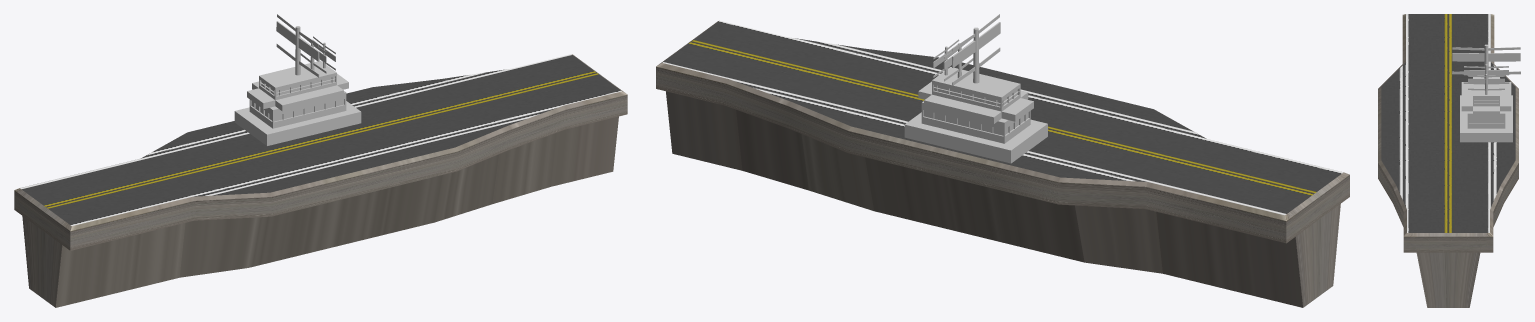
Rendered from boat.FBX.
The picture shows the model from 3 angles, left to right: view 1: azimuth 30°, elevation 25°; view 2: azimuth 150°, elevation 25°; view 3: azimuth 270°, elevation 25°; orthographic projection. The views are drawn at different scales.
Parts seen in each view (by area): view 1: Box001, Box002, Cone001; view 2: Box001, Box002, Cone001; view 3: Box001, Box002, Cone001, Cone002, Cone003.
Boxes of the visible parts, x1,y1,x2,y2 form: Box001: (14,54,627,307); Box002: (234,60,361,145); Cone001: (276,14,319,77); Box001: (656,20,1349,307); Box002: (904,67,1047,163); Cone001: (952,14,1000,85); Box001: (1378,14,1518,307); Box002: (1460,75,1512,142); Cone001: (1452,44,1520,78); Cone002: (1463,64,1509,88); Cone003: (1468,74,1504,94).
Size of the model in its own units: 163 by 51.93 by 44.31.
3 materials, 2 textured.
